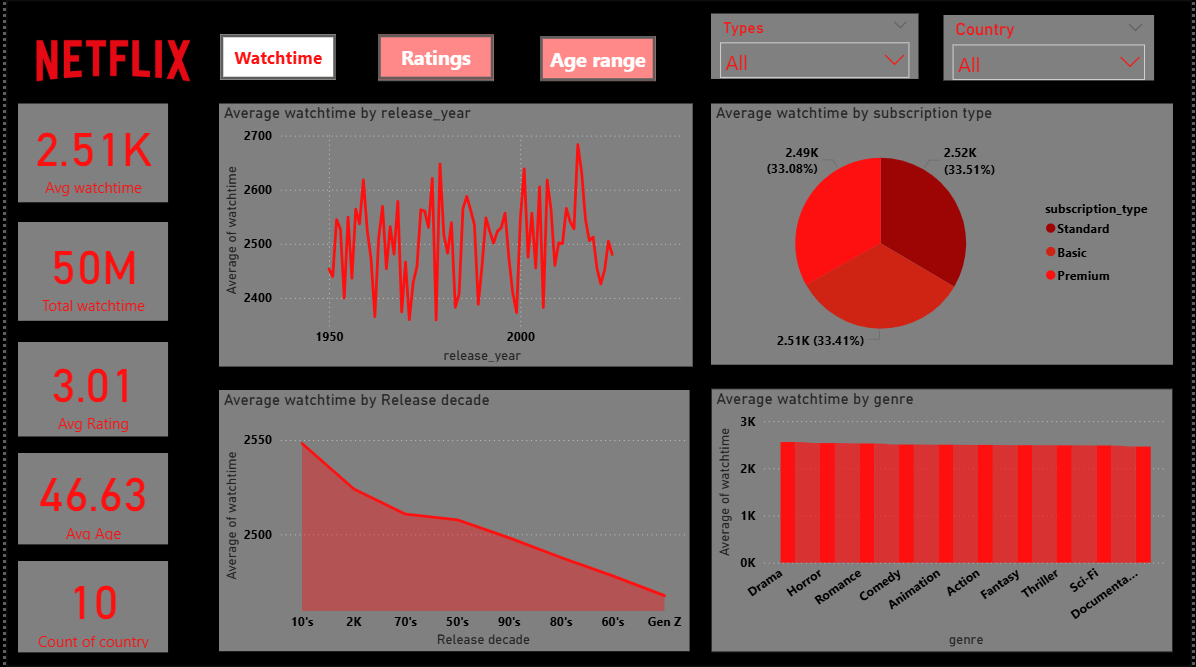

Layout of this report page (visuals, bound fields, positions):
{"tool":"powerbi","page":{"name":"Dashboard","canvas":[1280,720],"ordinal":0},"visuals":[{"type":"image","box":[0,0,231.5,124.7],"z":0},{"type":"columnChart","title":"Average watchtime by Age range","fields":{"Y":["Avg(netflix_customer_ratings_20000.watch_time_minutes)"],"Category":["netflix_customer_ratings_20000.Age range"]},"box":[209.3,111.7,507.9,286.5],"z":1000},{"type":"slicer","fields":{"Values":["netflix_dataset_20000.country"]},"box":[1012.8,16.5,227.6,70.9],"z":5000},{"type":"card","fields":{"Values":["Movies.Avg watchtime"]},"box":[13,111.7,161.9,106.9],"z":6000},{"type":"card","fields":{"Values":["Movies.Allwatchtime"]},"box":[13,239.6,161.9,106.9],"z":7000},{"type":"card","fields":{"Values":["Movies.Avg Rating"]},"box":[13,369.2,161.9,102],"z":8000},{"type":"card","fields":{"Values":["Movies.Avg Age"]},"box":[13,489,161.9,98.8],"z":9000},{"type":"card","fields":{"Values":["Count(netflix_customer_ratings_20000.country)"]},"box":[13,605.6,161.9,98.8],"z":10000},{"type":"actionButton","title":"Watchtime BT","box":[231.5,37.2,124.7,48.6],"z":11000},{"type":"actionButton","title":"Ratings BT","box":[401.6,38.9,124.7,48.6],"z":12000},{"type":"actionButton","title":"Age BT","box":[576.4,38.9,124.7,48.6],"z":13000},{"type":"slicer","fields":{"Values":["netflix_dataset_20000.type"]},"box":[760.4,14.8,224.3,70.9],"z":14000},{"type":"actionButton","title":"Ratings1","box":[401.6,37.2,124.7,48.6],"z":16000},{"type":"actionButton","title":"Watchtime1","box":[231.5,37.2,124.7,48.6],"z":17000},{"type":"hundredPercentStackedBarChart","title":"Average watchtime by Age range and subscription type","fields":{"Category":["netflix_customer_ratings_20000.Age range"],"Series":["netflix_customer_ratings_20000.subscription_type"],"Y":["Avg(netflix_customer_ratings_20000.watch_time_minutes)"]},"box":[209.5,420.6,508,282.1],"z":23000},{"type":"funnel","title":"Age distribution","fields":{"Category":["netflix_customer_ratings_20000.Age range"],"Y":["CountNonNull(netflix_customer_ratings_20000.age)"]},"box":[743.9,112.2,508,287],"z":24000},{"type":"areaChart","title":"Highest vs lowest rating by Age","fields":{"Category":["netflix_customer_ratings_20000.Age range"],"Y":["Sum(netflix_customer_ratings_20000.rating)"]},"box":[743.9,420.6,508,287],"z":25000}]}

Visuals, with their boxes in screenshot pixels (x1, y1, x2, y2), scaled from the page's 1280x720 canvas onto the 1196x667 screenshot:
image: box=[0, 0, 216, 116]
"Average watchtime by Age range" columnChart: box=[196, 103, 670, 369]
slicer - netflix_dataset_20000.country: box=[946, 15, 1159, 81]
card - Movies.Avg watchtime: box=[12, 103, 163, 203]
card - Movies.Allwatchtime: box=[12, 222, 163, 321]
card - Movies.Avg Rating: box=[12, 342, 163, 437]
card - Movies.Avg Age: box=[12, 453, 163, 545]
card - Count(netflix_customer_ratings_20000.country): box=[12, 561, 163, 653]
"Watchtime BT" actionButton: box=[216, 34, 333, 79]
"Ratings BT" actionButton: box=[375, 36, 492, 81]
"Age BT" actionButton: box=[539, 36, 655, 81]
slicer - netflix_dataset_20000.type: box=[710, 14, 920, 79]
"Ratings1" actionButton: box=[375, 34, 492, 79]
"Watchtime1" actionButton: box=[216, 34, 333, 79]
"Average watchtime by Age range and subscription type" hundredPercentStackedBarChart: box=[196, 390, 670, 651]
"Age distribution" funnel: box=[695, 104, 1170, 370]
"Highest vs lowest rating by Age" areaChart: box=[695, 390, 1170, 656]
